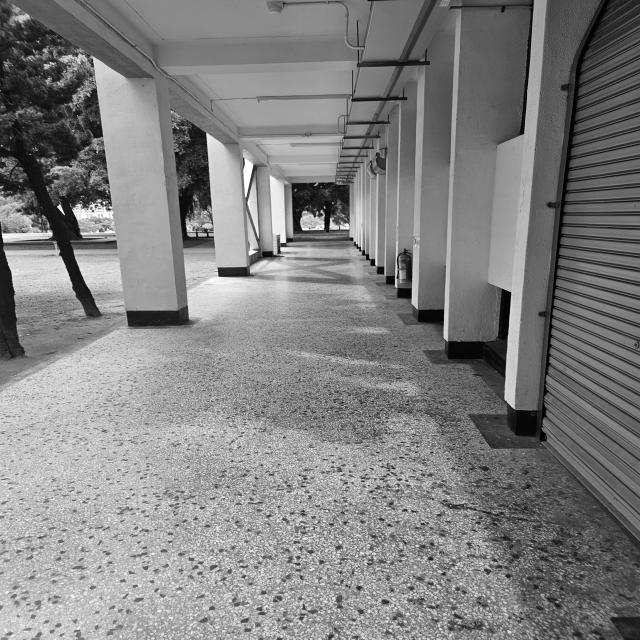Road-Object: (2, 241, 640, 640)
